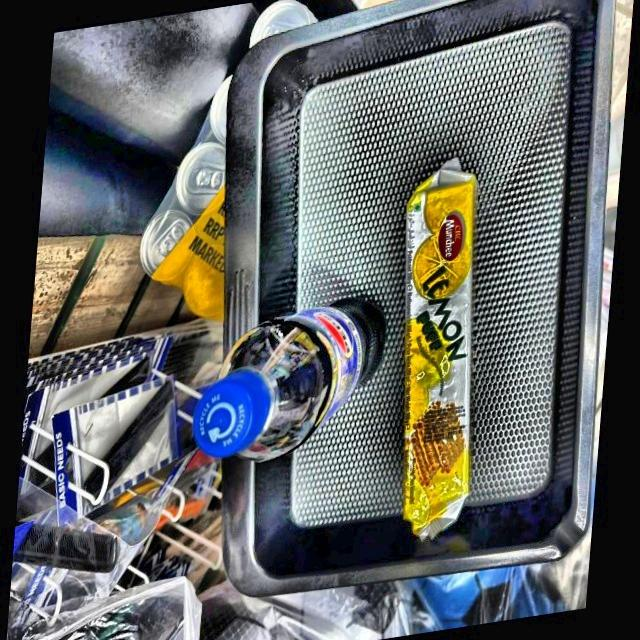lemon puff: (398, 157, 493, 539)
pepsi-bottle: (190, 304, 387, 470)
